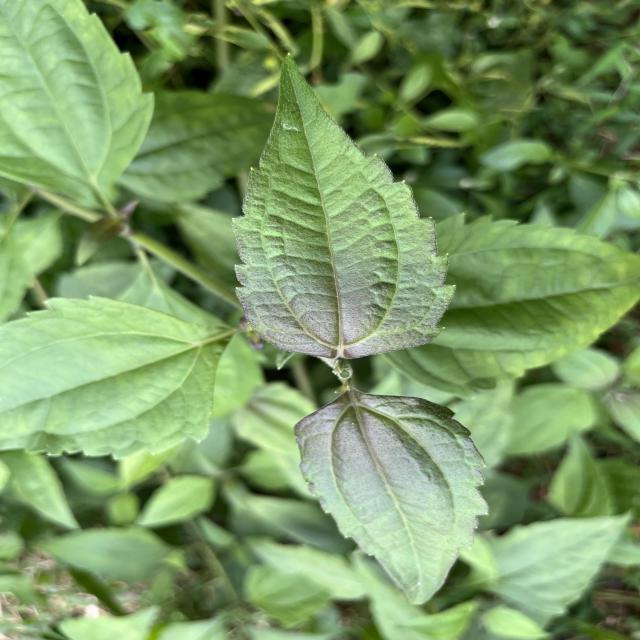Chromolaena odorata: (226, 45, 462, 364), (290, 390, 494, 612)
